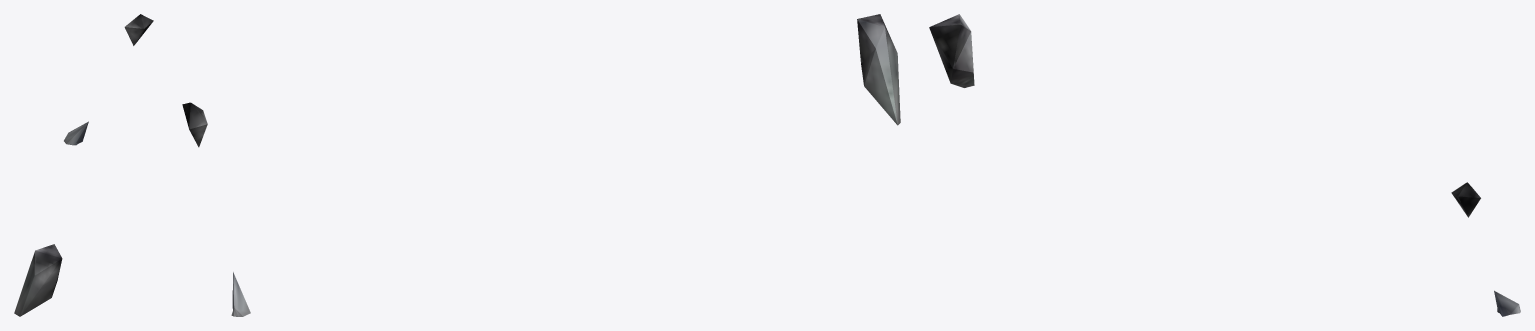
3 renders of one model, left to right at view 1: azimuth 30°, elevation 25°; view 2: azimuth 150°, elevation 25°; view 3: azimuth 270°, elevation 25°, orthographic. The views are drawn at different scales.
Bounding box in the file's own units: 0.5771 × 0.213 × 0.7037.
Materials: 1 (1 with a texture image).
